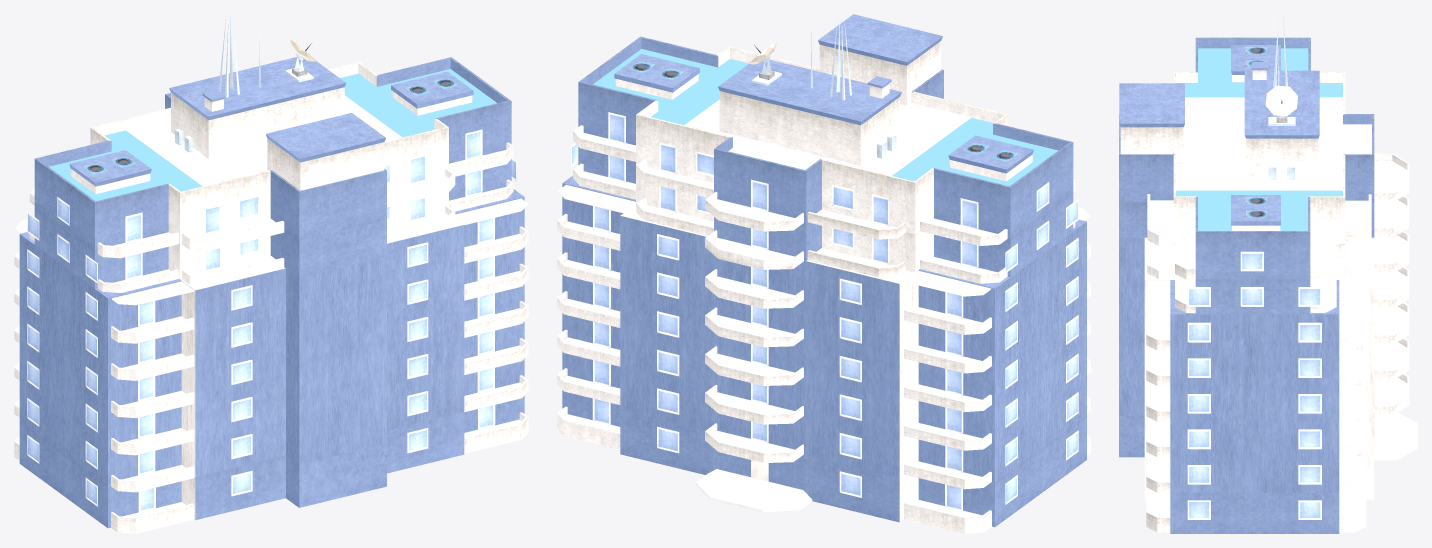
File: ORB_8_8S_Detail_2.fbx
The picture shows the model from 3 angles, left to right: view 1: azimuth 30°, elevation 25°; view 2: azimuth 150°, elevation 25°; view 3: azimuth 270°, elevation 25°; orthographic projection. The views are drawn at different scales.
Parts seen in each view (by area): view 1: ORB_8_8S_Detail_2; view 2: ORB_8_8S_Detail_2; view 3: ORB_8_8S_Detail_2.
Boxes of the visible parts, left/top/right/bottom form: ORB_8_8S_Detail_2: left=14, top=15, right=528, bottom=533; ORB_8_8S_Detail_2: left=557, top=14, right=1090, bottom=533; ORB_8_8S_Detail_2: left=1119, top=15, right=1417, bottom=533.
Size of the model in its own units: 3016 by 2942 by 1951.
